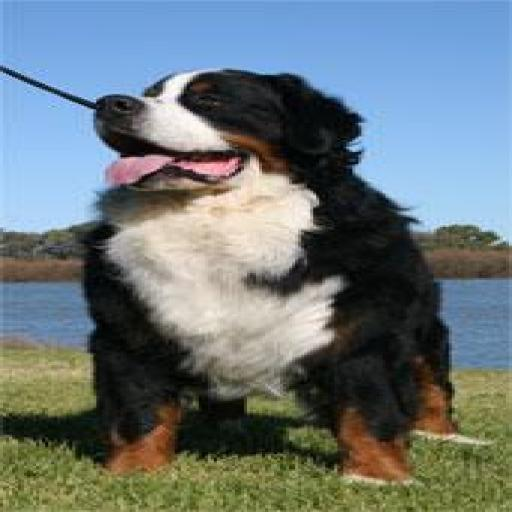dog_face: (72, 62, 350, 189)
